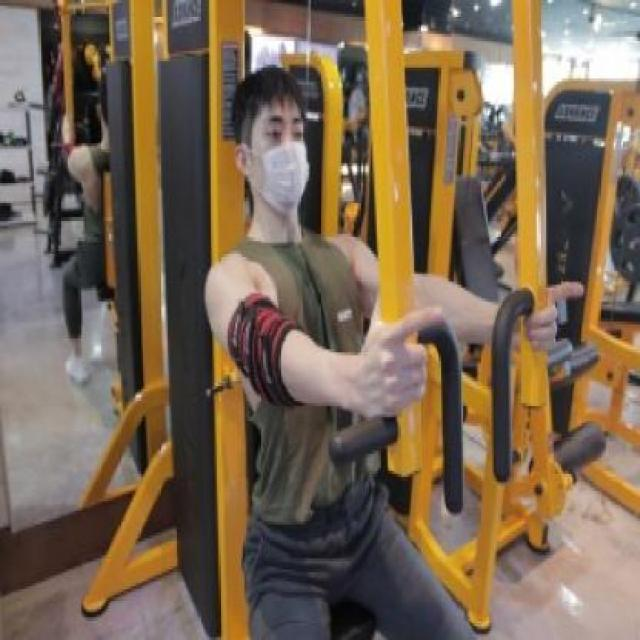chest fly machine: (52, 0, 566, 640)
